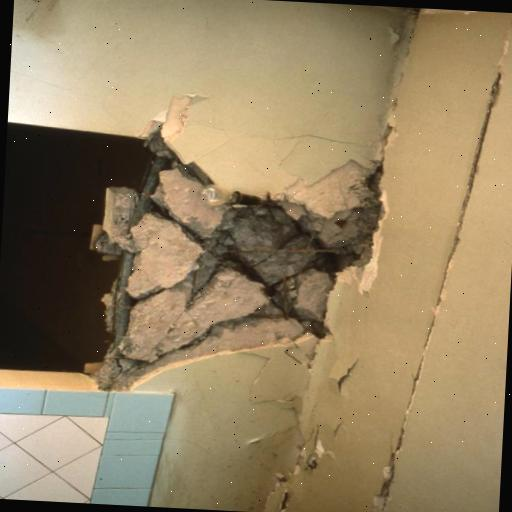spalling: (352, 52, 512, 512), (103, 139, 385, 392)
